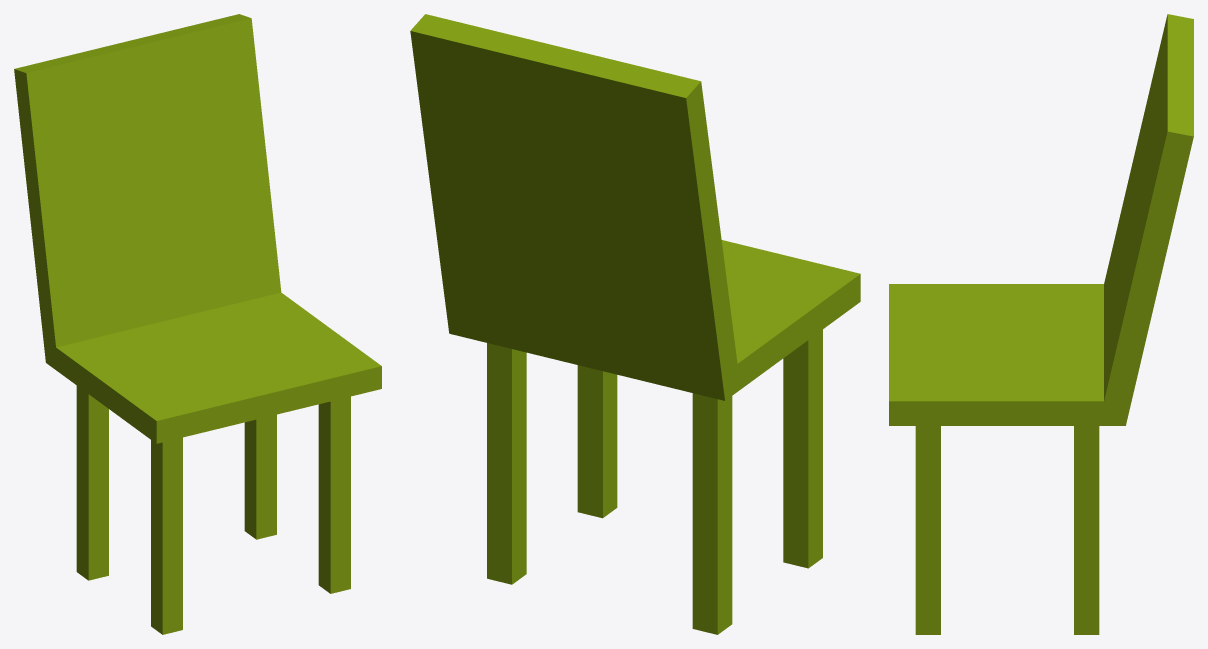
The model's file is chair.obj.
The picture shows the model from 3 angles, left to right: view 1: azimuth 30°, elevation 25°; view 2: azimuth 150°, elevation 25°; view 3: azimuth 270°, elevation 25°; orthographic projection. The views are drawn at different scales.
Visible parts, largest first — view 1: Cube; view 2: Cube; view 3: Cube.
Boxes of the visible parts, x1,y1,x2,y2 form: Cube: (14, 14, 381, 634); Cube: (410, 14, 860, 634); Cube: (889, 14, 1193, 634).
Size of the model in its own units: 0.2349 by 0.4782 by 0.2575.
